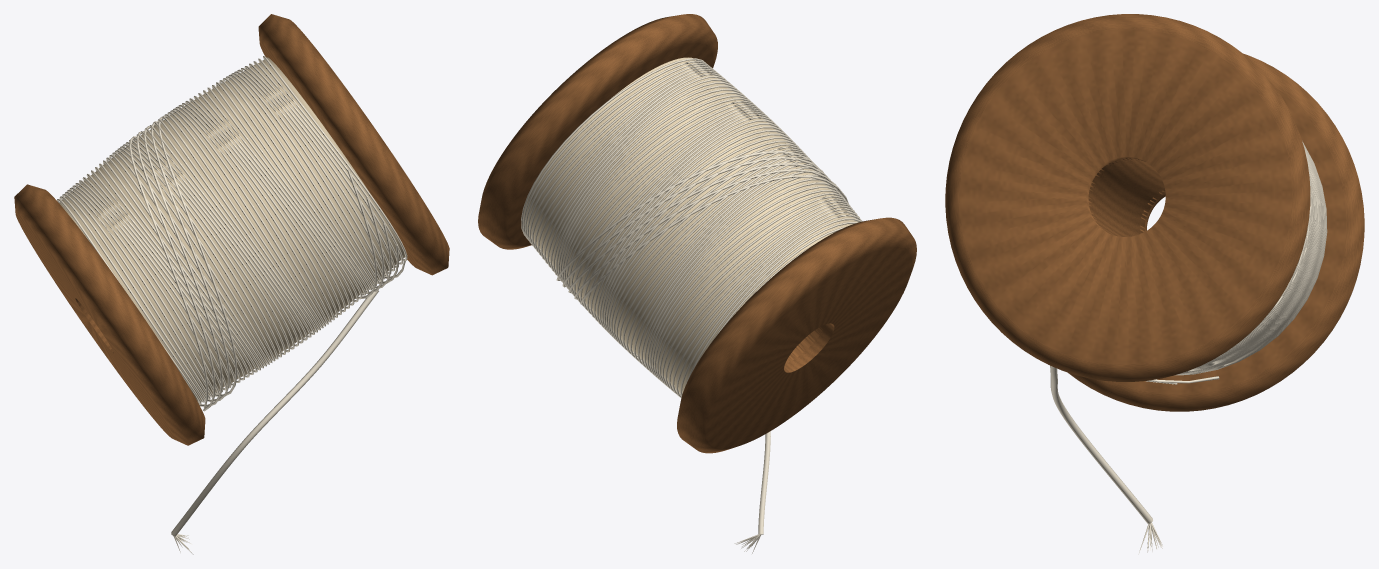
Rendered from spider_thread.glb.
The picture shows the model from 3 angles, left to right: view 1: azimuth 30°, elevation 25°; view 2: azimuth 150°, elevation 25°; view 3: azimuth 270°, elevation 25°; orthographic projection. The views are drawn at different scales.
Visible parts, largest first — view 1: Fine ivory silk, Ivory dry silk layers, Worn brown reel wood; view 2: Fine ivory silk, Worn brown reel wood, Ivory dry silk layers; view 3: Worn brown reel wood, Fine ivory silk.
Part boxes in pixels (<box>): Fine ivory silk: <box>57,56,407,554</box>; Ivory dry silk layers: <box>59,57,405,401</box>; Worn brown reel wood: <box>14,14,449,445</box>; Fine ivory silk: <box>521,58,862,553</box>; Worn brown reel wood: <box>478,14,916,453</box>; Ivory dry silk layers: <box>523,57,858,392</box>; Worn brown reel wood: <box>945,14,1364,411</box>; Fine ivory silk: <box>1050,141,1327,554</box>.
Size of the model in its own units: 0.153 by 0.1965 by 0.1248.
Materials: 3 (2 with a texture image).
